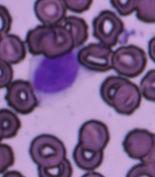L: (29, 50, 87, 104)
